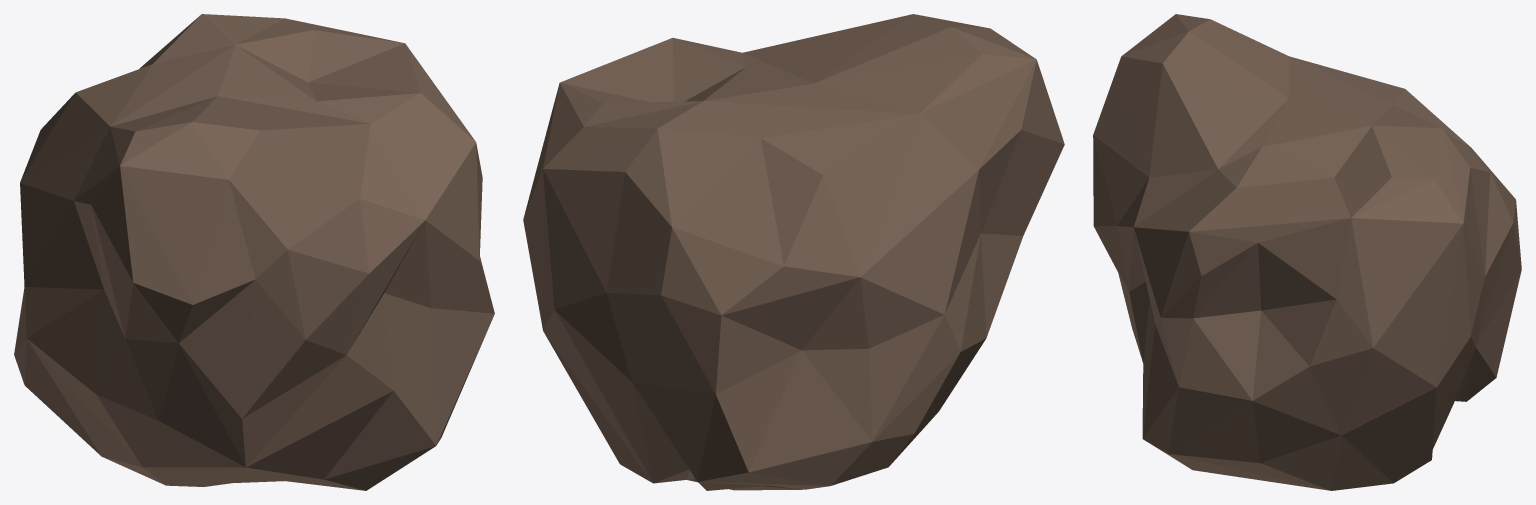
Rendered from Comet_2.fbx.
3 views of the same model, side by side, from view 1: azimuth 30°, elevation 25°; view 2: azimuth 150°, elevation 25°; view 3: azimuth 270°, elevation 25° (orthographic). The views are drawn at different scales.
Visible parts, largest first — view 1: Group64916; view 2: Group64916; view 3: Group64916.
Part boxes in pixels (x1,y1,x2,y2): Group64916: (14, 14, 494, 490); Group64916: (523, 14, 1064, 490); Group64916: (1093, 14, 1521, 490).
Bounding box in the file's own units: 36.13 × 36.82 × 36.58.
